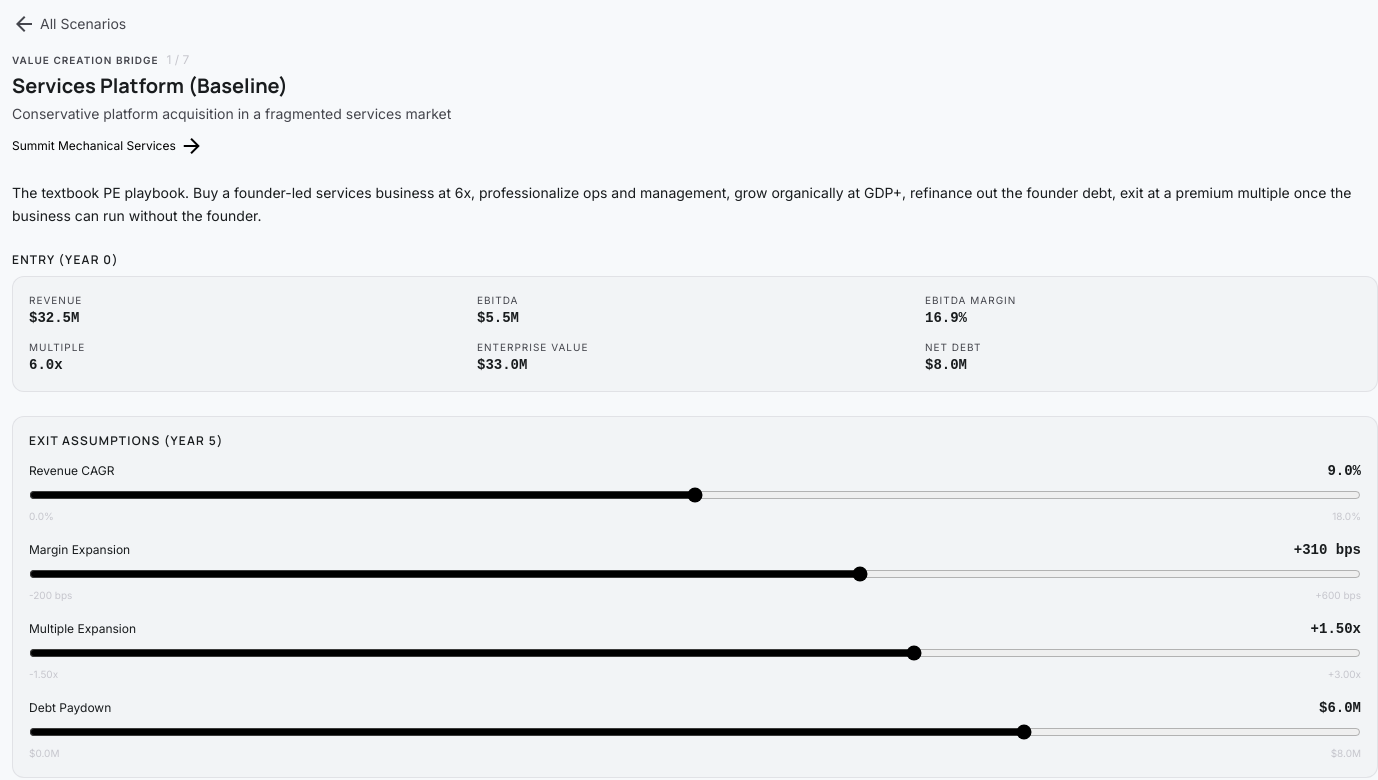
Test case: BridgeCalculator › reset button restores plan assumptions and disappears
This screenshot has width=1378, height=780.
Set the slider named "Revenue CAGR" to "18" at (1353, 494), box [29, 486, 1361, 502]
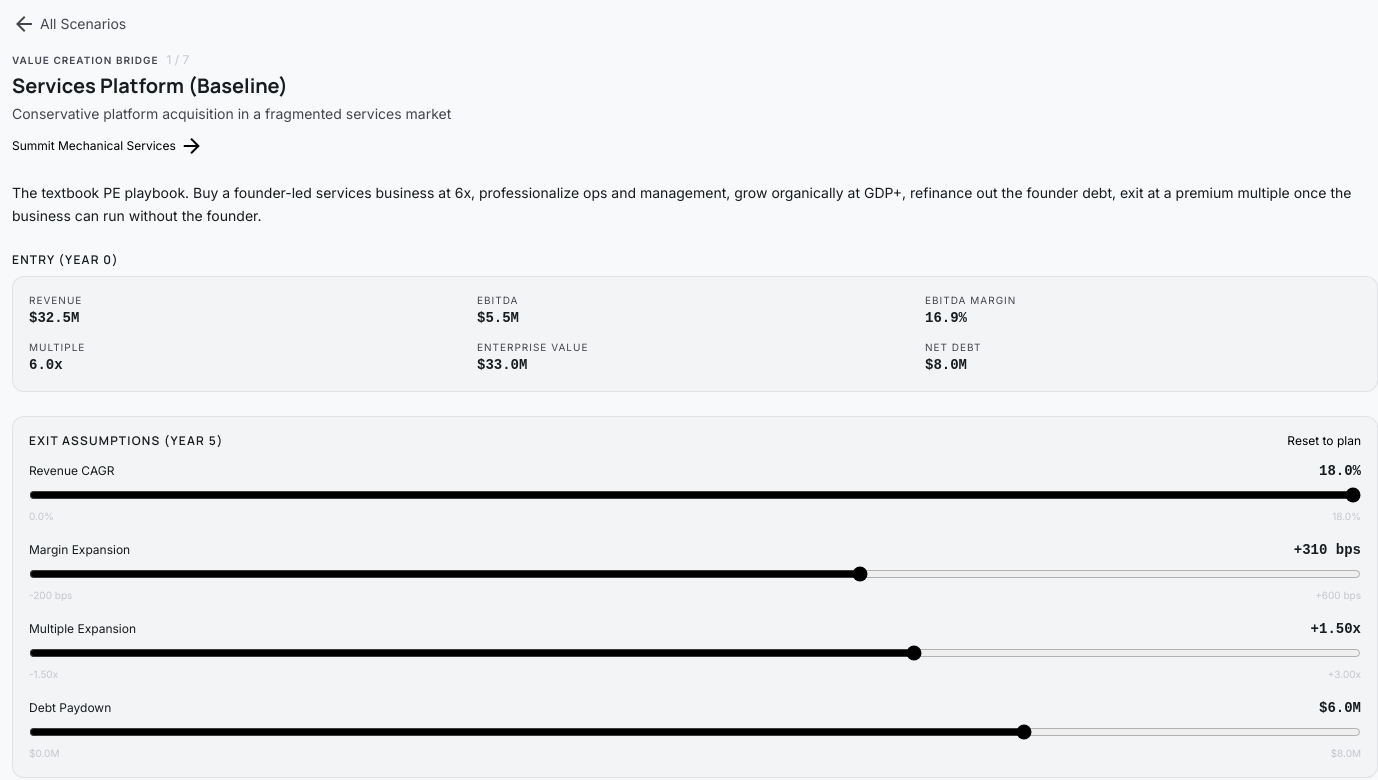
Click the button "Reset to plan" at (1324, 440), box [1287, 432, 1361, 448]
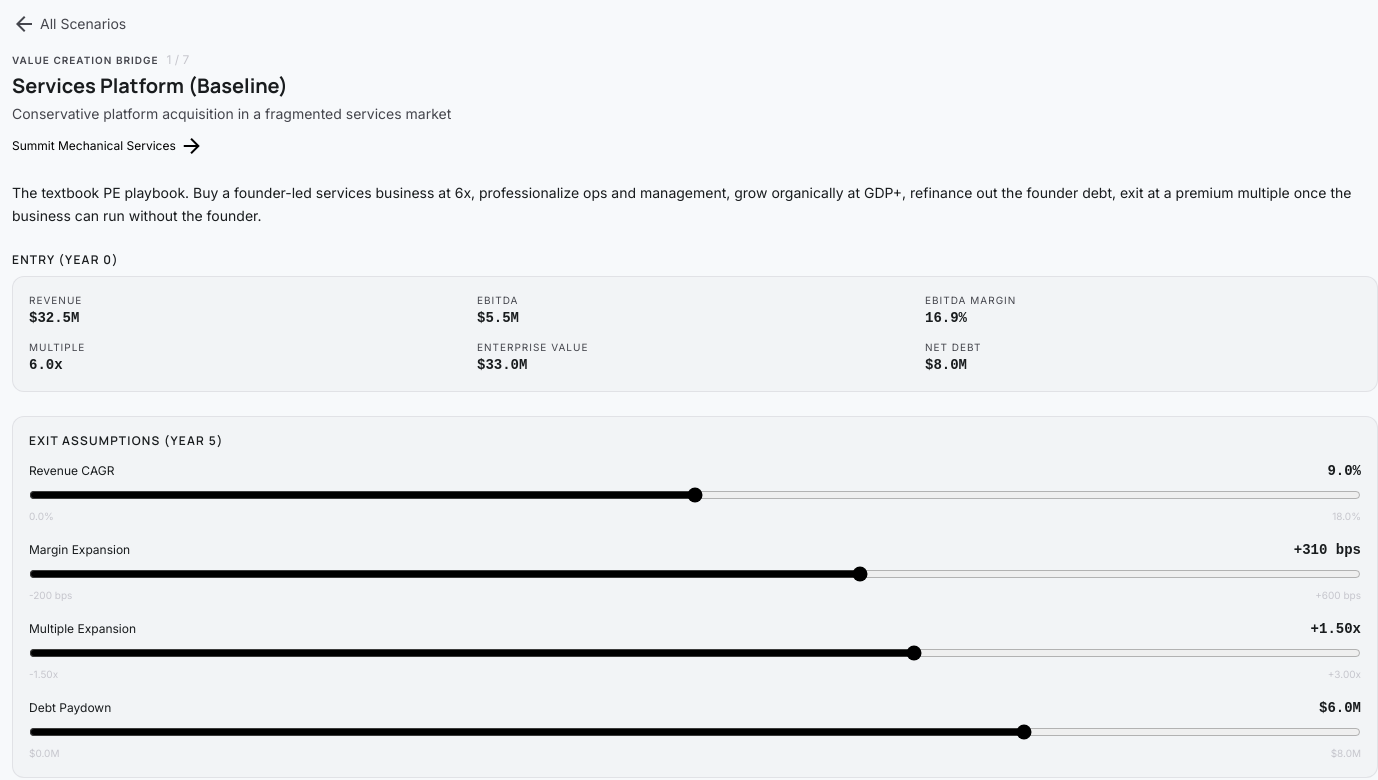
Expected: the button "Reset to plan" is gone
